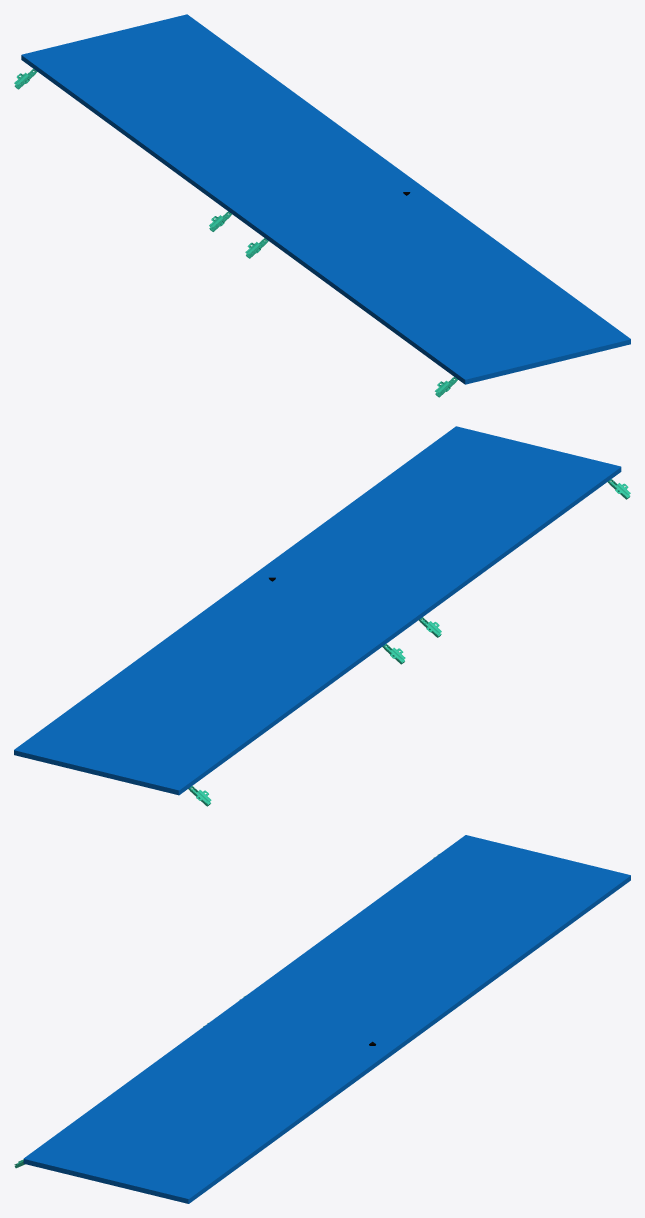
File: dver_3_1.glb
The picture shows the model from 3 angles, top to bottom: view 1: azimuth 30°, elevation 25°; view 2: azimuth 150°, elevation 25°; view 3: azimuth 330°, elevation 25°; orthographic projection.
Parts seen in each view (by area): view 1: Box004; view 2: Box004; view 3: Box004.
Part boxes in pixels (x1,y1,x2,y2): Box004: [21, 14, 630, 384]; Box004: [14, 426, 621, 795]; Box004: [23, 835, 630, 1203].
Bounding box in the file's own units: 55.39 × 6.36 × 231.
